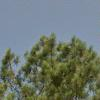Tree: (29, 28, 95, 100)
